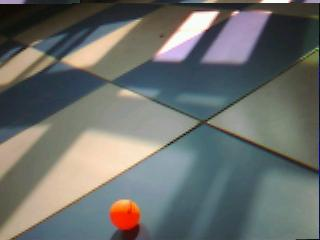oball: (109, 200, 140, 230)
